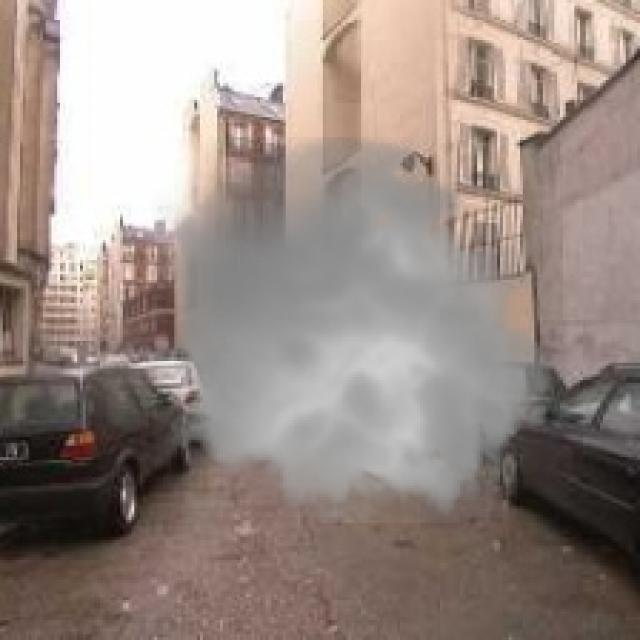smoke: (152, 123, 568, 540)
